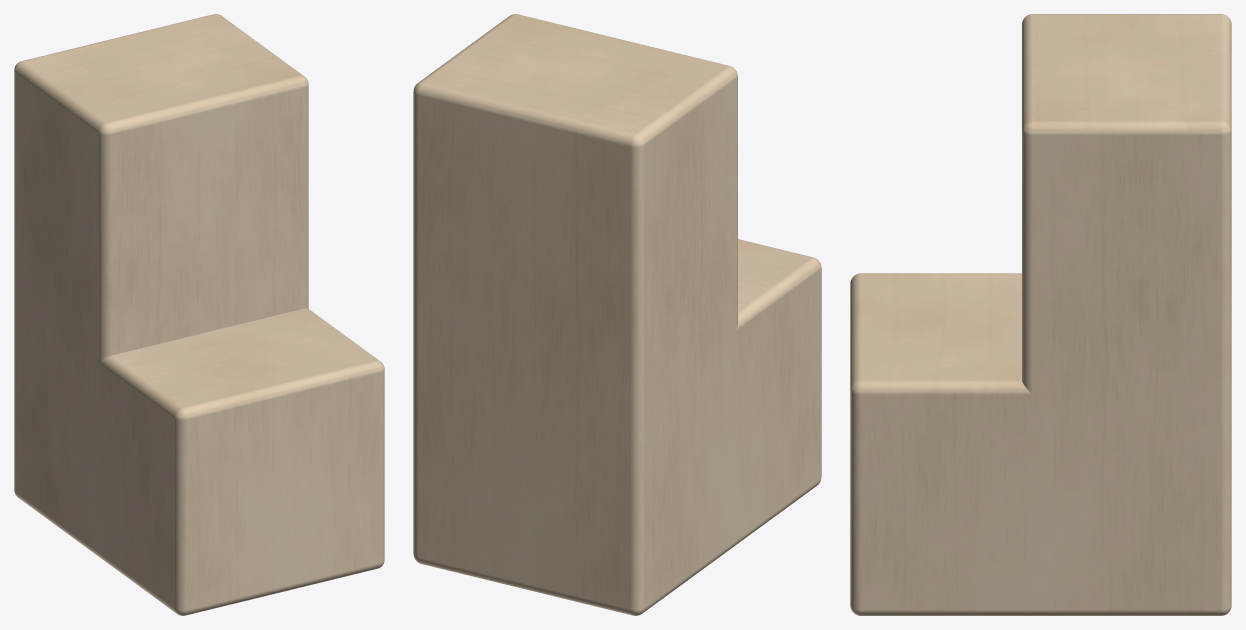
Rendered from knight-white.glb.
3 renders of one model, left to right at view 1: azimuth 30°, elevation 25°; view 2: azimuth 150°, elevation 25°; view 3: azimuth 270°, elevation 25°, orthographic. The views are drawn at different scales.
Parts seen in each view (by area): view 1: Rez_Jezdec_bily; view 2: Rez_Jezdec_bily; view 3: Rez_Jezdec_bily.
Boxes of the visible parts, x1=… form: Rez_Jezdec_bily: x1=14, y1=14, x2=384, y2=615; Rez_Jezdec_bily: x1=413, y1=14, x2=821, y2=615; Rez_Jezdec_bily: x1=850, y1=14, x2=1231, y2=615.
Size of the model in its own units: 0.4851 by 0.97 by 0.679.
2 materials, 2 textured.
